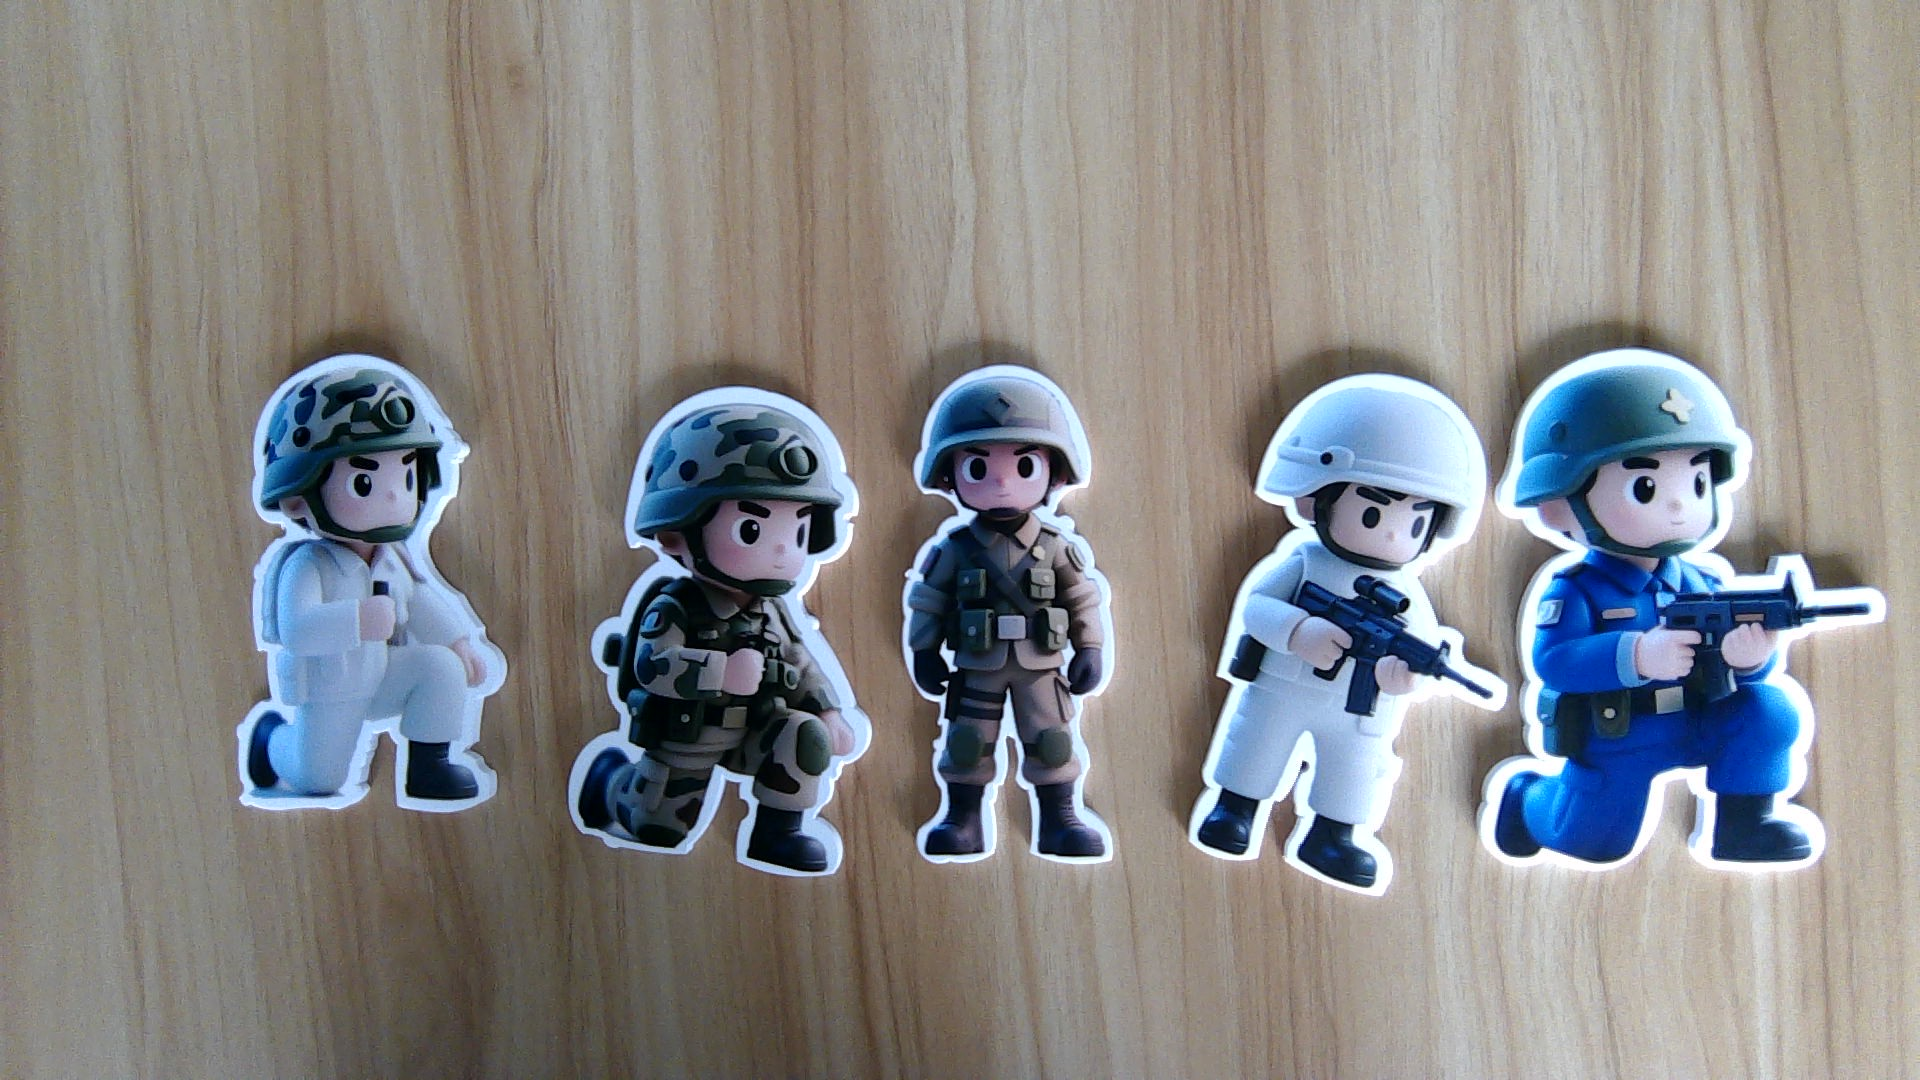人质: (1182, 564, 1460, 897), (224, 543, 512, 816)
友军: (566, 588, 872, 880), (902, 513, 1118, 864)
敌人2: (1473, 556, 1876, 873)
